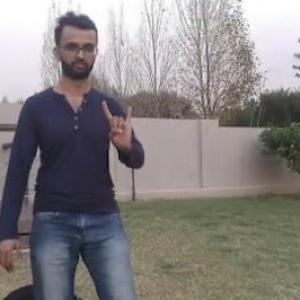takeoff-hand: (98, 92, 141, 153)
